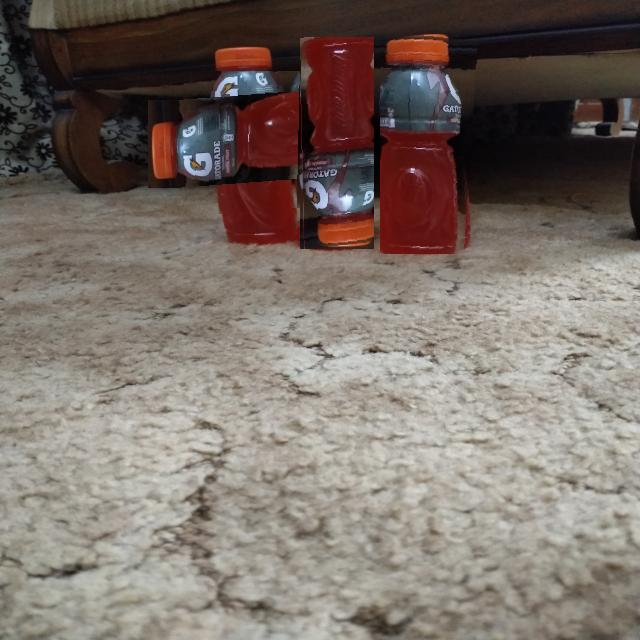Plastic: (380, 31, 478, 254), (177, 71, 322, 217), (299, 37, 374, 249)
